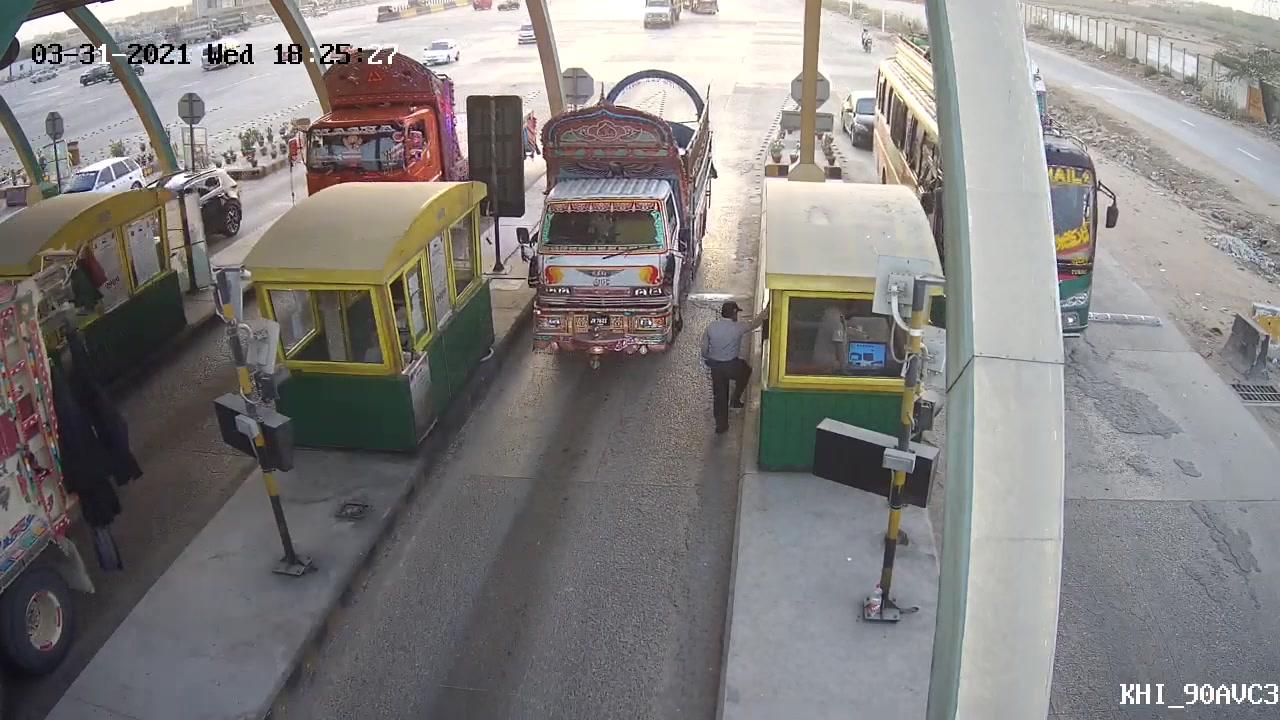F5: (510, 154, 698, 372)
